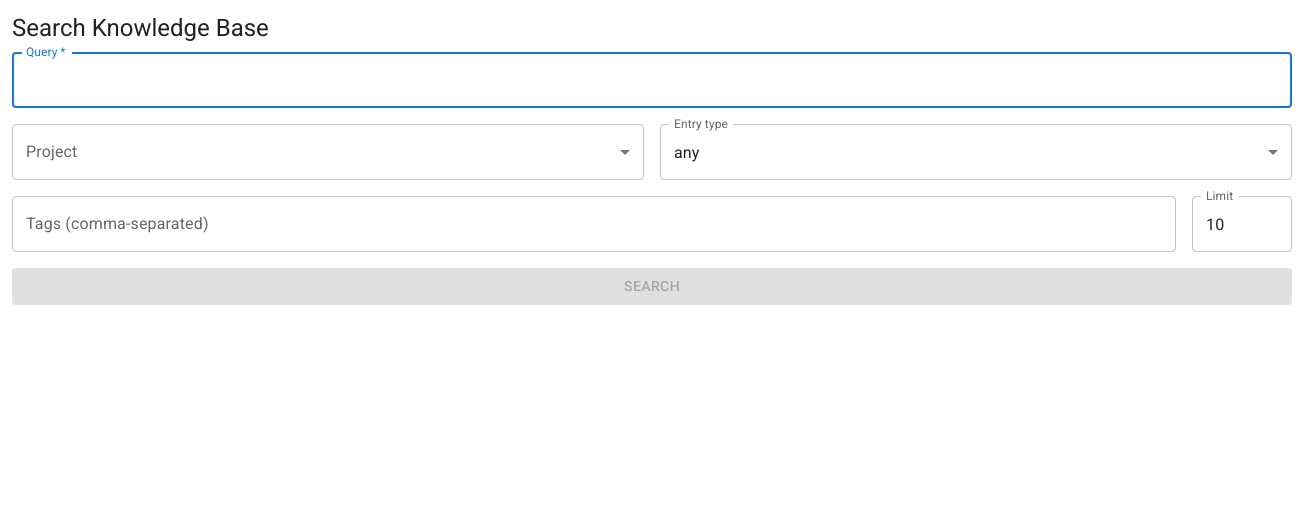
Test case: Search page › renders result cards with short_title and filtered_count
In the field labelled "Query *": [652, 80] box [12, 52, 1292, 108], type "test"
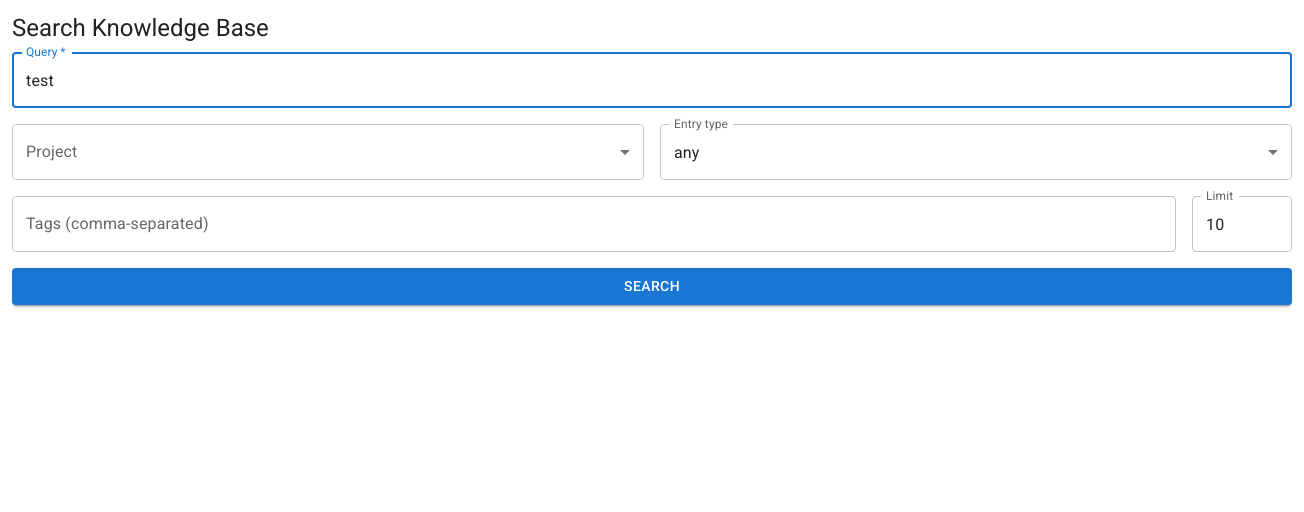
Click the button "Search": [652, 287] box [12, 268, 1292, 305]
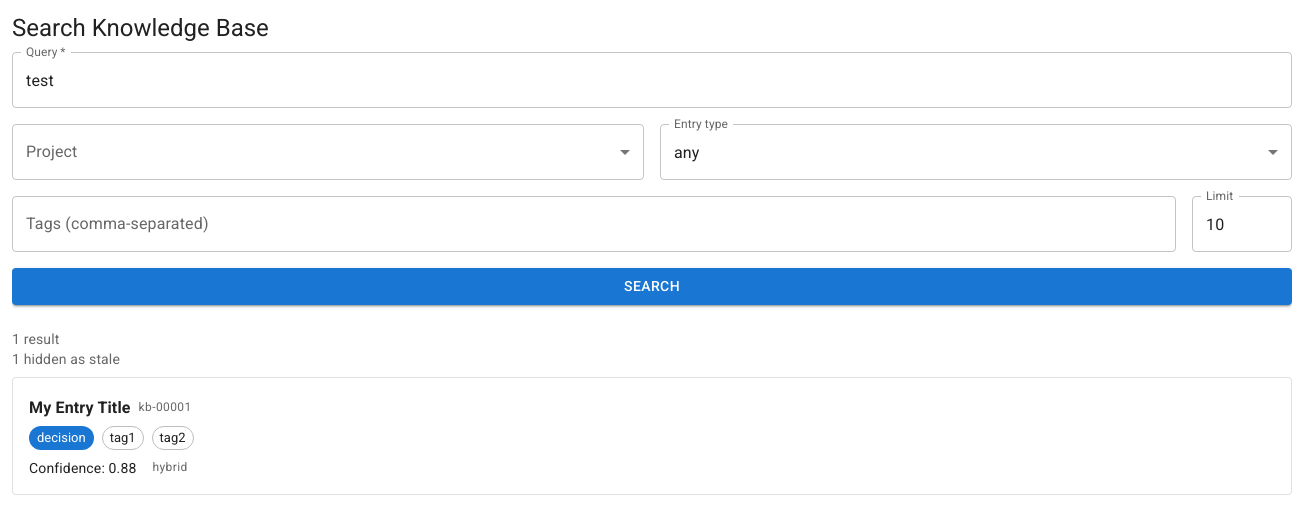
Result: the text "My Entry Title" is shown at [29, 394, 131, 422]
Result: the text "1 result" is shown at [12, 331, 60, 347]
